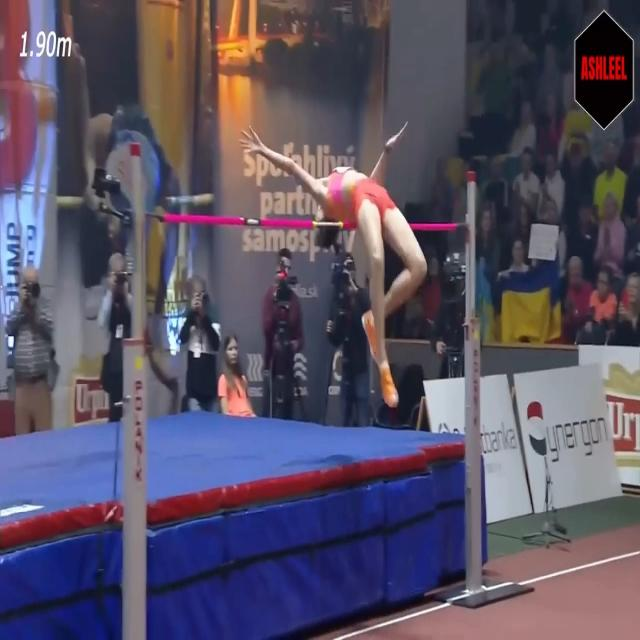jump: (238, 111, 426, 412)
